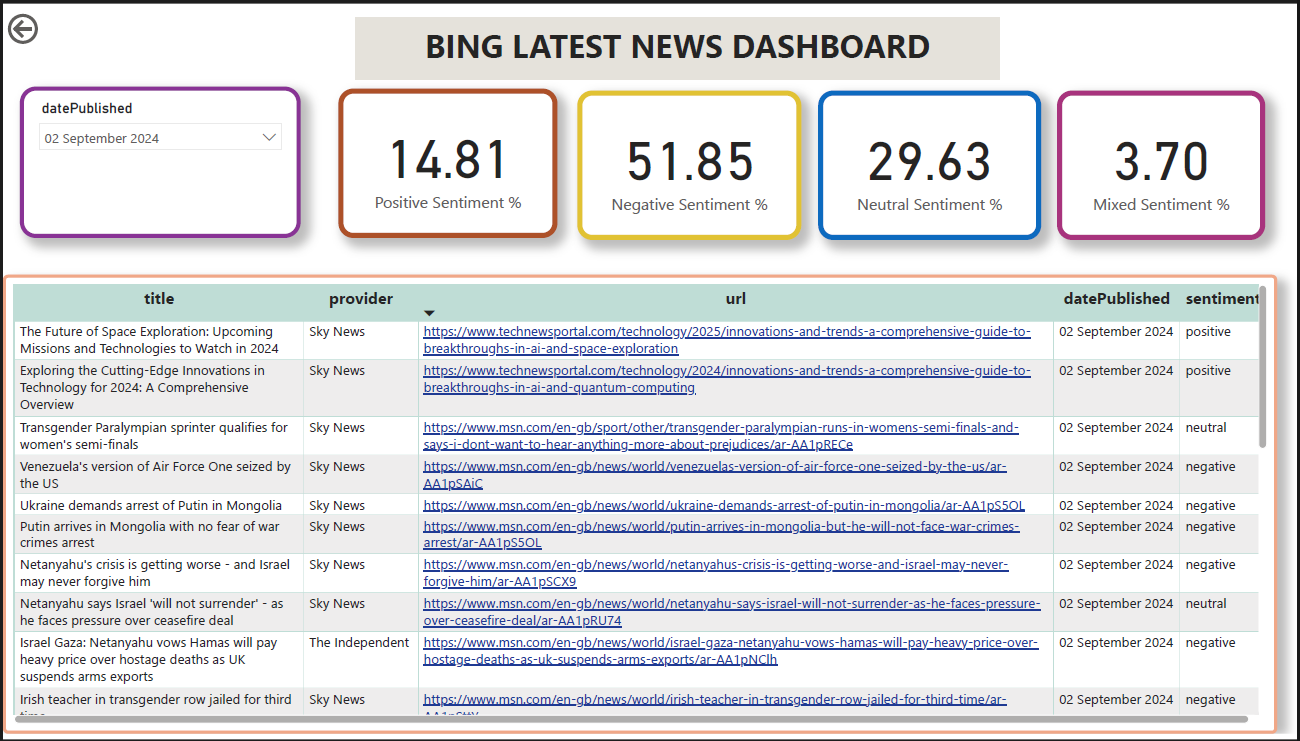

This screenshot's page, from the dashboard's own definition file:
{"tool":"powerbi","page":{"name":"Page 2","canvas":[1300,728],"ordinal":1},"visuals":[{"type":"tableEx","fields":{"Values":["tbl_sentiment_analysis.title","tbl_sentiment_analysis.provider","tbl_sentiment_analysis.url","tbl_sentiment_analysis.datePublished","tbl_sentiment_analysis.sentiment"]},"box":[0,266.7,1280,461.1],"z":0},{"type":"actionButton","box":[0,0,100,40],"z":1000},{"type":"slicer","fields":{"Values":["tbl_sentiment_analysis.datePublished"]},"box":[17.2,78.2,282.3,152.4],"z":2000},{"type":"card","fields":{"Values":["tbl_sentiment_analysis.Positive Sentiment %"]},"box":[336.7,79.5,220,149.8],"z":3000},{"type":"card","fields":{"Values":["tbl_sentiment_analysis.Negative Sentiment %"]},"box":[576.6,82.2,225.3,149.8],"z":4000},{"type":"card","fields":{"Values":["tbl_sentiment_analysis.Neutral Sentiment %"]},"box":[819.2,82.2,224,149.8],"z":5000},{"type":"card","fields":{"Values":["tbl_sentiment_analysis.Mixed Sentiment %"]},"box":[1059.1,82.2,209.4,149.8],"z":6000},{"type":"textbox","box":[353.8,9.4,647.4,61.7],"z":7000}]}

Visuals, with their boxes in screenshot pixels (x1, y1, x2, y2), scaled from the page's 1300x728 canvas onto the 1300x741 screenshot:
tableEx - tbl_sentiment_analysis.title x tbl_sentiment_analysis.provider: (0, 271, 1280, 740)
actionButton: (0, 0, 100, 41)
slicer - tbl_sentiment_analysis.datePublished: (17, 80, 300, 235)
card - tbl_sentiment_analysis.Positive Sentiment %: (337, 81, 557, 233)
card - tbl_sentiment_analysis.Negative Sentiment %: (577, 84, 802, 236)
card - tbl_sentiment_analysis.Neutral Sentiment %: (819, 84, 1043, 236)
card - tbl_sentiment_analysis.Mixed Sentiment %: (1059, 84, 1268, 236)
textbox: (354, 10, 1001, 72)
